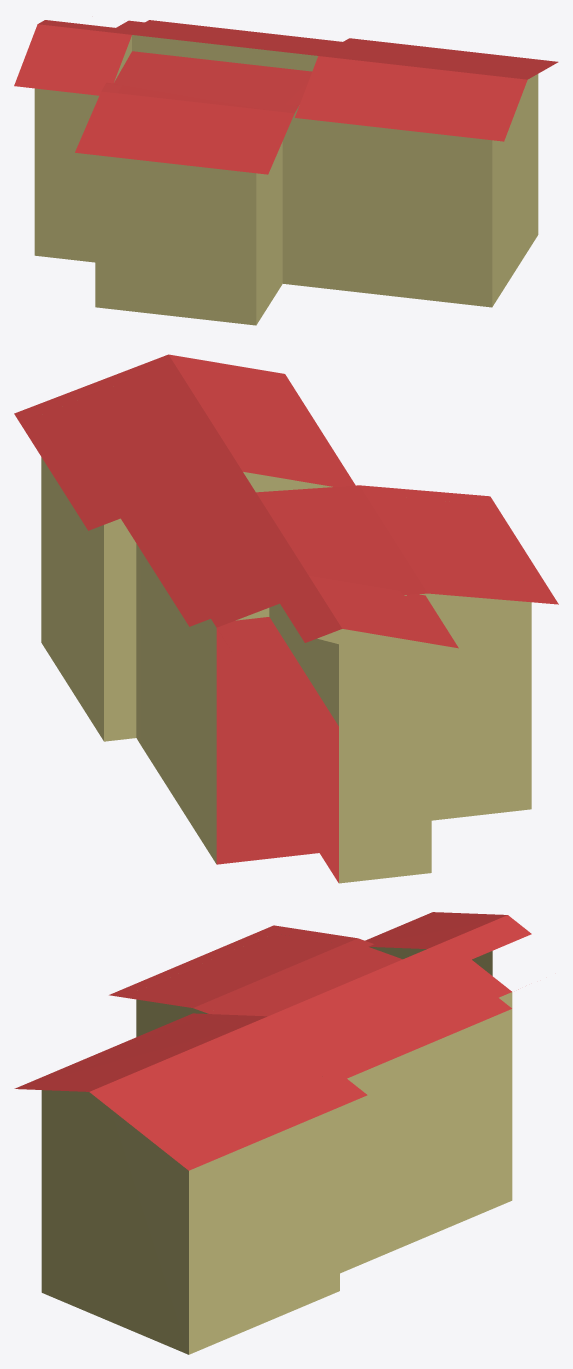
The picture shows the model from 3 angles, top to bottom: view 1: azimuth 30°, elevation 25°; view 2: azimuth 150°, elevation 25°; view 3: azimuth 270°, elevation 25°; orthographic projection. The views are drawn at different scales.
Size of the model in its own units: 23.06 by 20.83 by 9.81.
